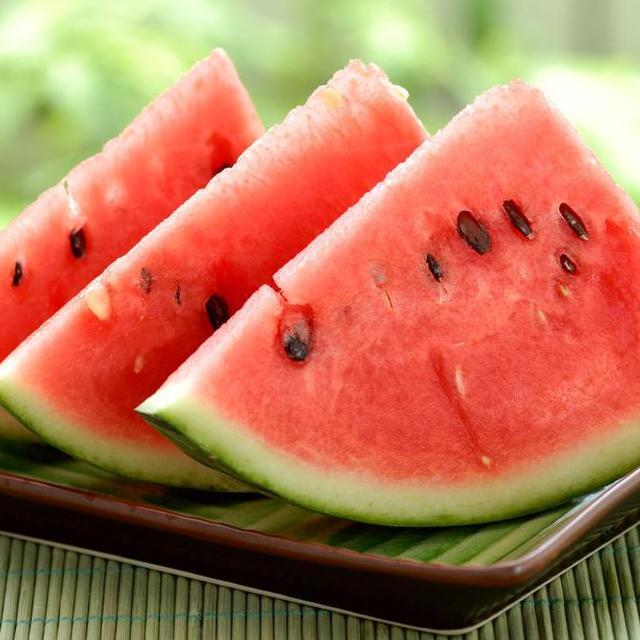watermelon: (135, 75, 640, 528), (0, 56, 439, 496), (0, 43, 267, 460)
